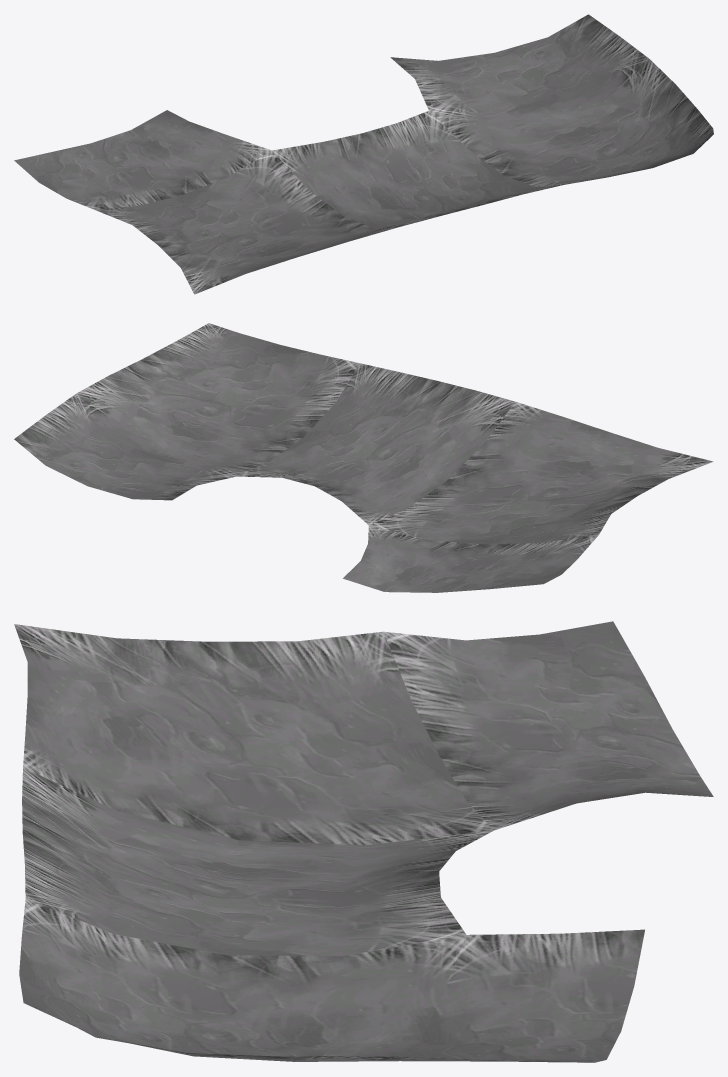
Rendered from SWORDLIGHT20_PS-AREA01_19.fbx.
The picture shows the model from 3 angles, top to bottom: view 1: azimuth 30°, elevation 25°; view 2: azimuth 150°, elevation 25°; view 3: azimuth 270°, elevation 25°; orthographic projection. The views are drawn at different scales.
Visible parts, largest first — view 1: SWORDLIGHT20_PS-AREA01_19; view 2: SWORDLIGHT20_PS-AREA01_19; view 3: SWORDLIGHT20_PS-AREA01_19.
Part boxes in pixels (x1,y1,x2,y2): SWORDLIGHT20_PS-AREA01_19: [14, 14, 713, 294]; SWORDLIGHT20_PS-AREA01_19: [14, 323, 713, 592]; SWORDLIGHT20_PS-AREA01_19: [14, 621, 713, 1062].
Bounding box in the file's own units: 179969 × 15552 × 115610.
3 materials, 3 textured.
